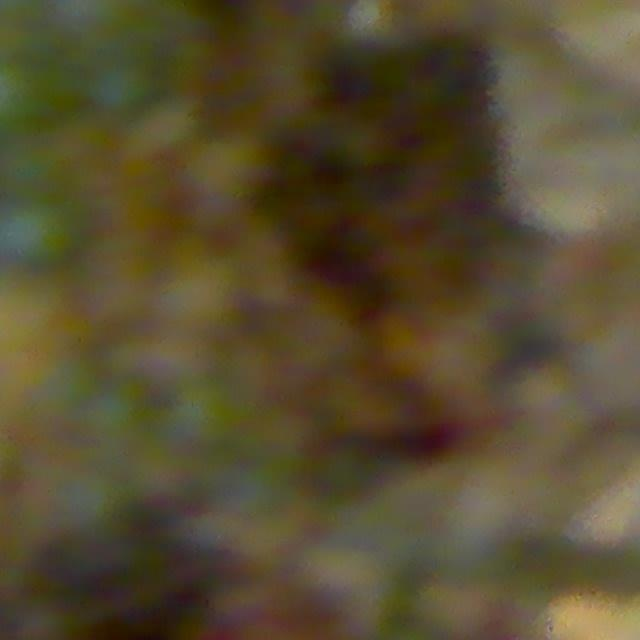SeaGrape: (0, 192, 79, 271), (89, 55, 156, 117), (10, 593, 76, 640)
